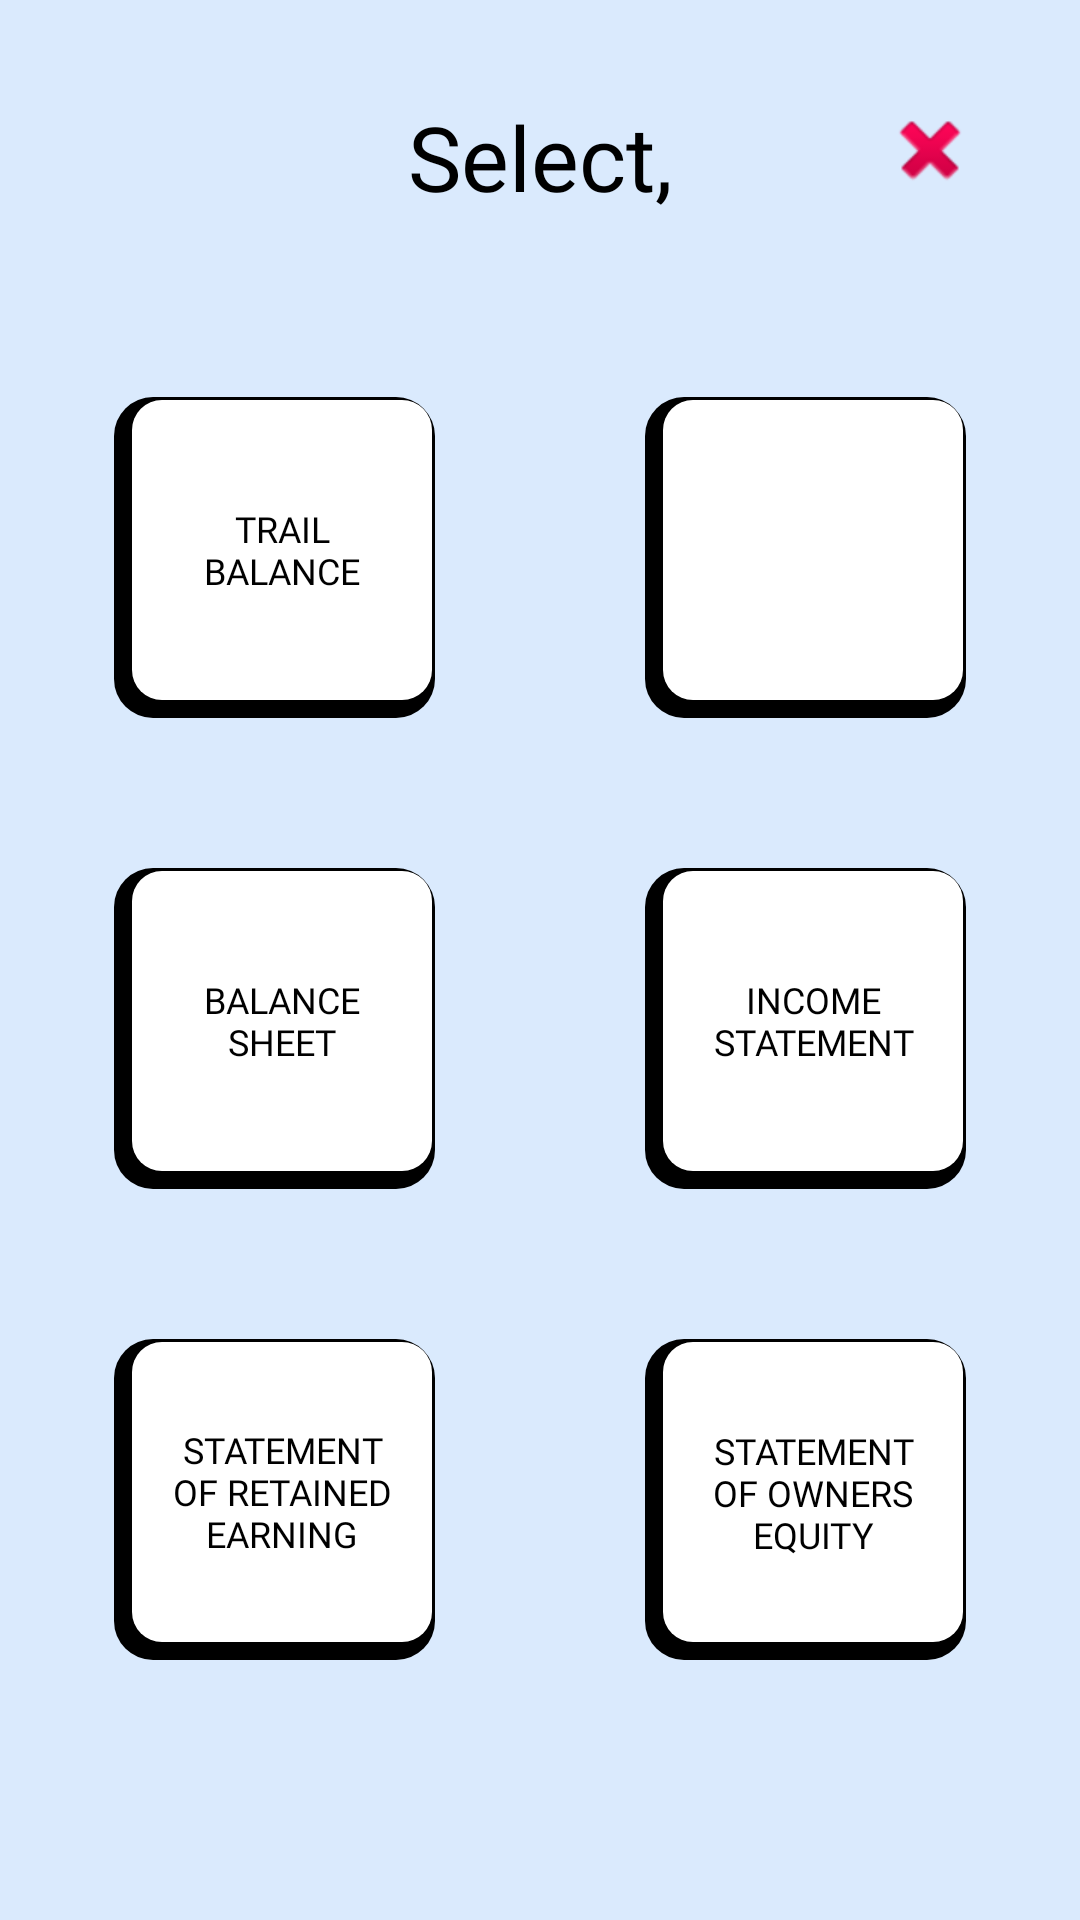

Named icons in this screenshot (1080px x 1920px) and their bounding boxes, region(x1, y1, x2, y2):
delete: region(899, 121, 961, 180)
